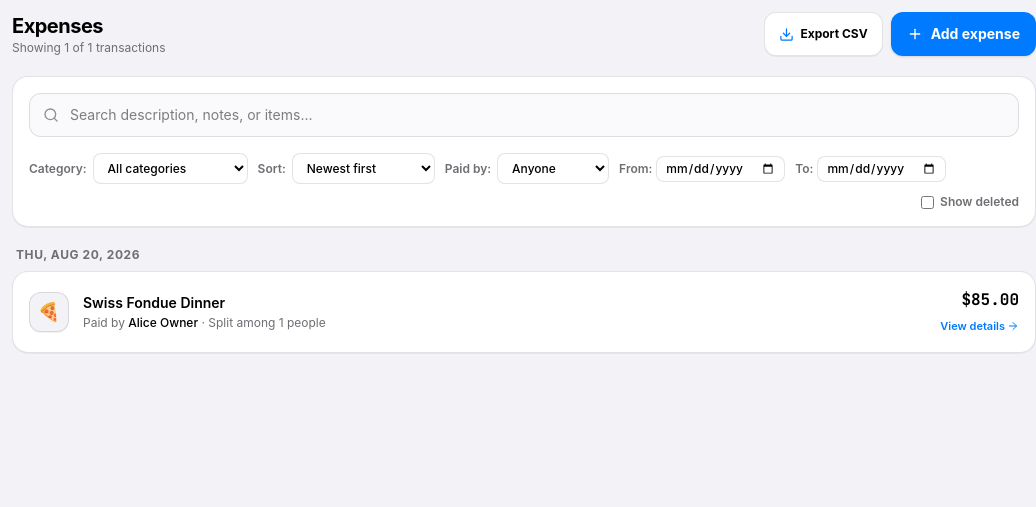
Test: Screen Empty States & Micro-interactions — Empirical Adversarial Testing › ExpensesPage Empty States & Edge Conditions › renders filter empty state with search emoji and 'Clear all filters' button on zero search matches
Check: the text "Swiss Fondue Dinner" is shown, box top-left (83, 293), bottom-right (225, 313)
Note: Type a query that yields zero matches
Type "Nonexistent Search Term" into the field with placeholder "Search description, notes, or items...". click: (524, 115)
box: top-left (29, 93), bottom-right (1019, 137)
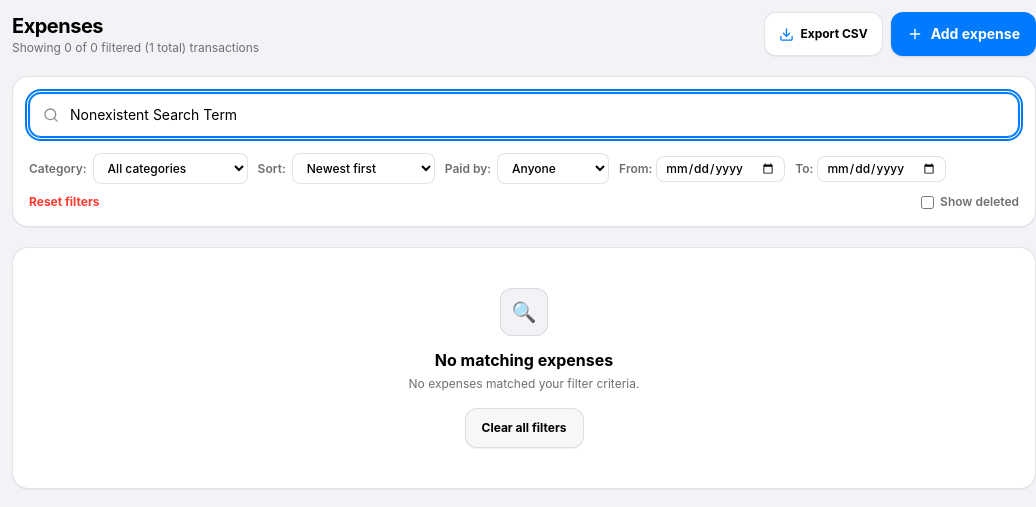
Check: the text "No matching expenses" is shown, box top-left (435, 350), bottom-right (613, 370)
Check: the text "No expenses matched your filter criteria." is shown, box top-left (409, 376), bottom-right (640, 391)
Check: the link "Swiss Fondue Dinner" is gone
Note: Click "Clear all filters" button inside empty state card
Click the button "Clear all filters". click: (524, 428)
box: top-left (464, 408), bottom-right (584, 448)
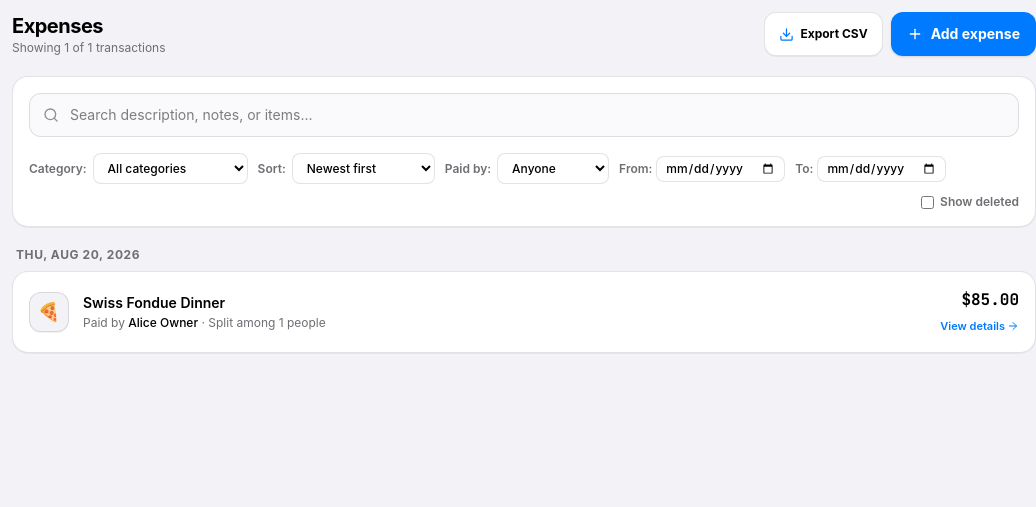
Check: the text "Swiss Fondue Dinner" is shown, box top-left (83, 293), bottom-right (225, 313)
Check: the text "No matching expenses" is gone
